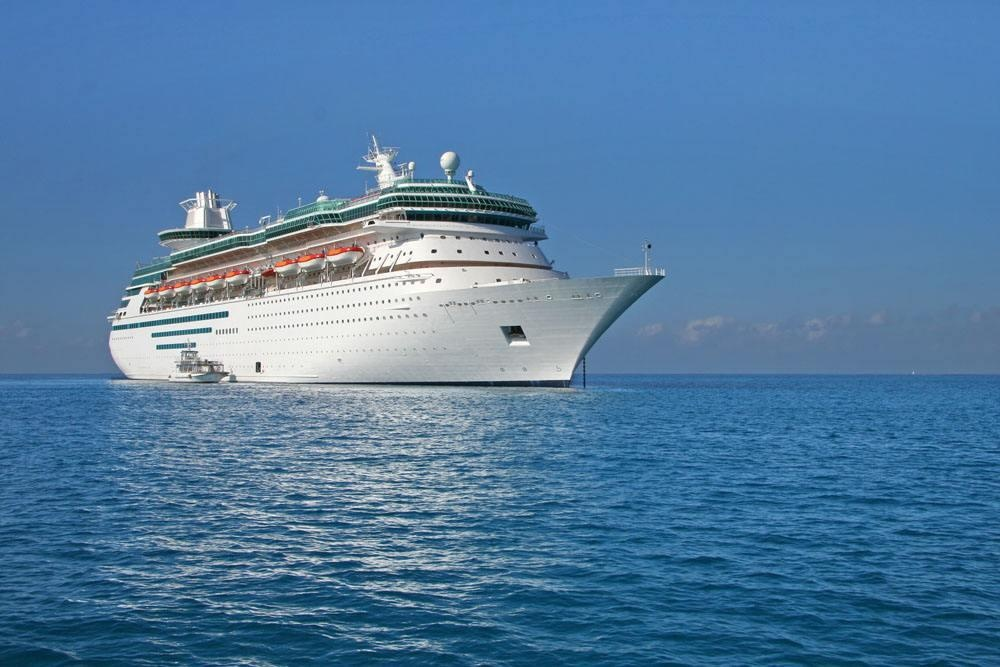otherboat: (164, 334, 227, 386)
youlun: (107, 148, 668, 391)
